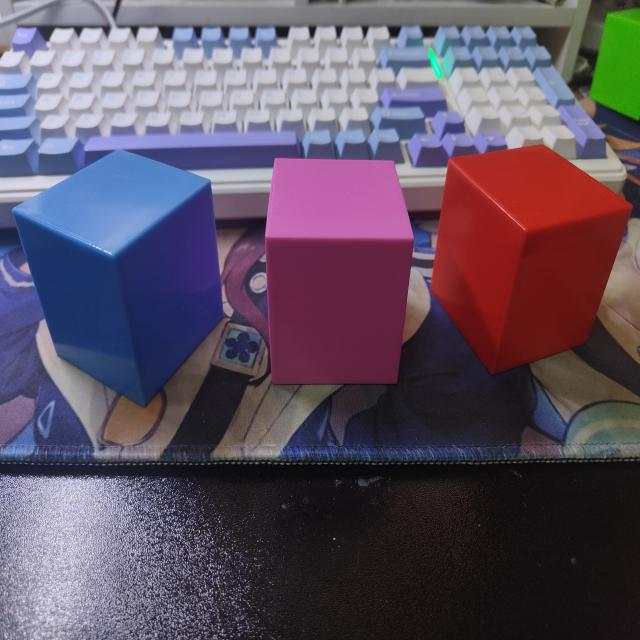blue: (12, 152, 227, 411)
pink: (263, 158, 414, 388)
red: (431, 145, 632, 378)
